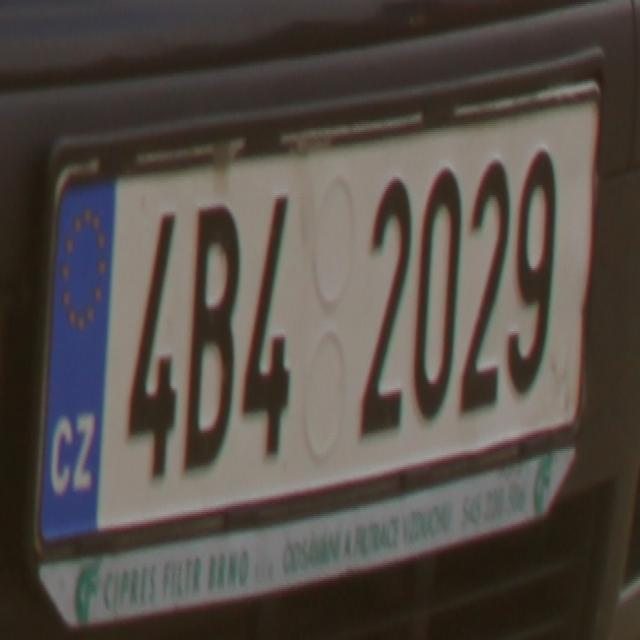0: (407, 166, 461, 439)
2: (457, 160, 508, 417), (359, 179, 404, 445)
4: (124, 215, 180, 490), (241, 199, 295, 459)
9: (509, 144, 557, 406)
B: (183, 195, 236, 475)
